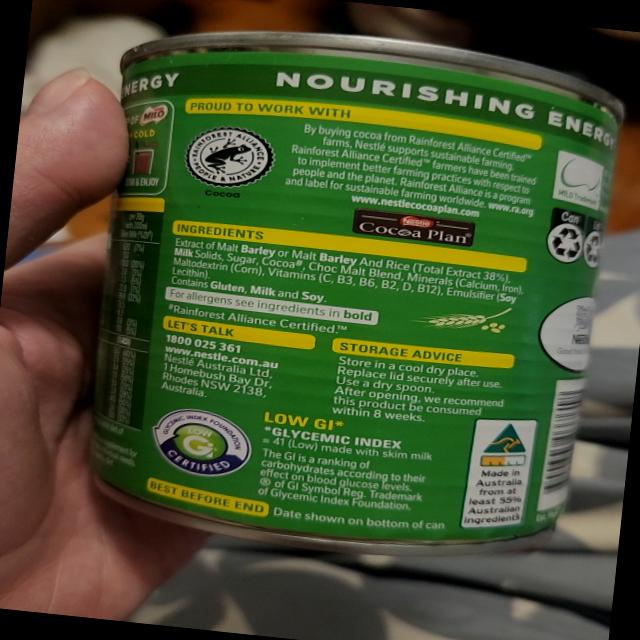nestle_milo_tin: (92, 32, 624, 555)
